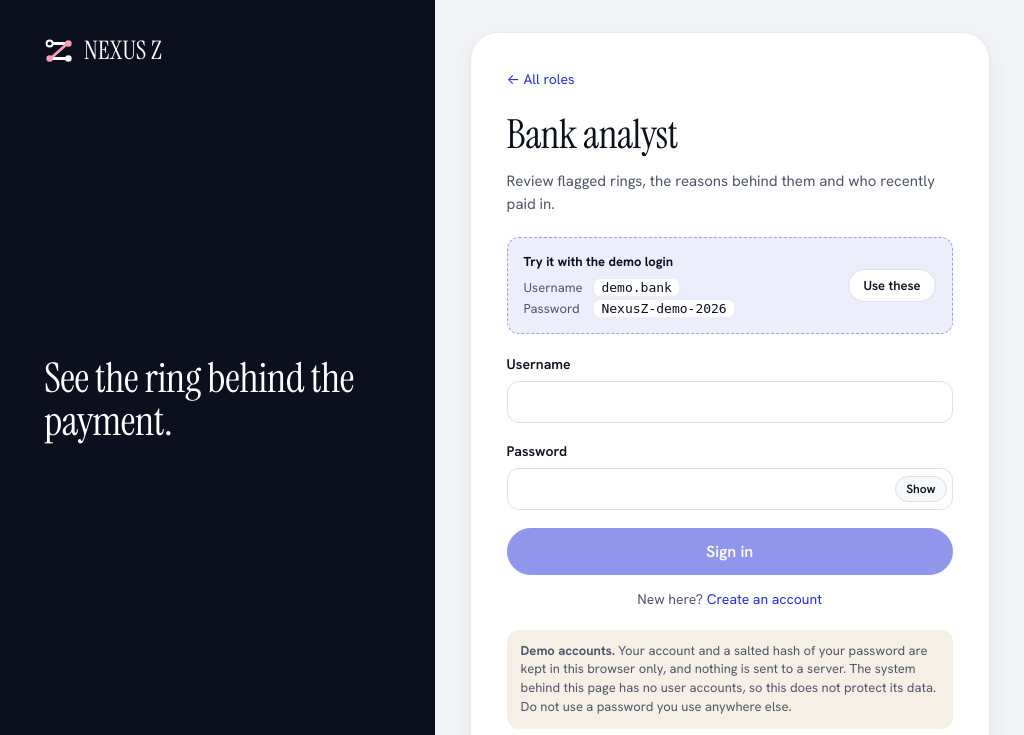
Test: landing and sign-in › a wrong password is refused, says so, and does not sign in
Type "asha" into the field labelled "Username" at point(730, 402), box [507,380,953,422]
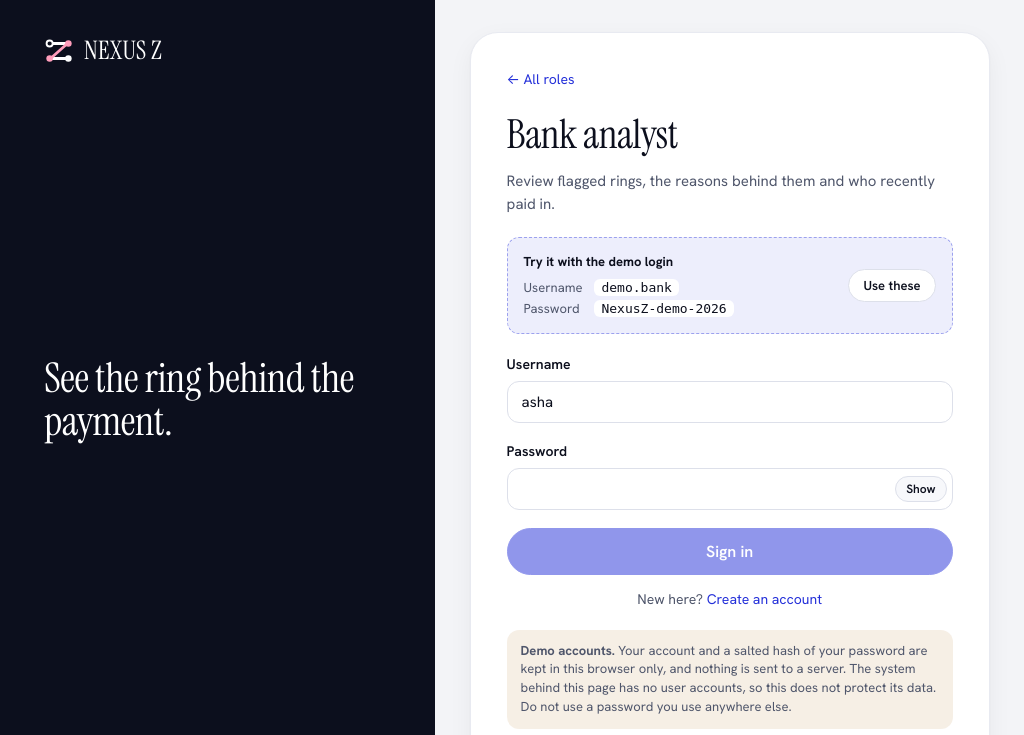
Type "wrong password" into the password field labelled "Password" at point(730, 488), box [507,468,953,510]
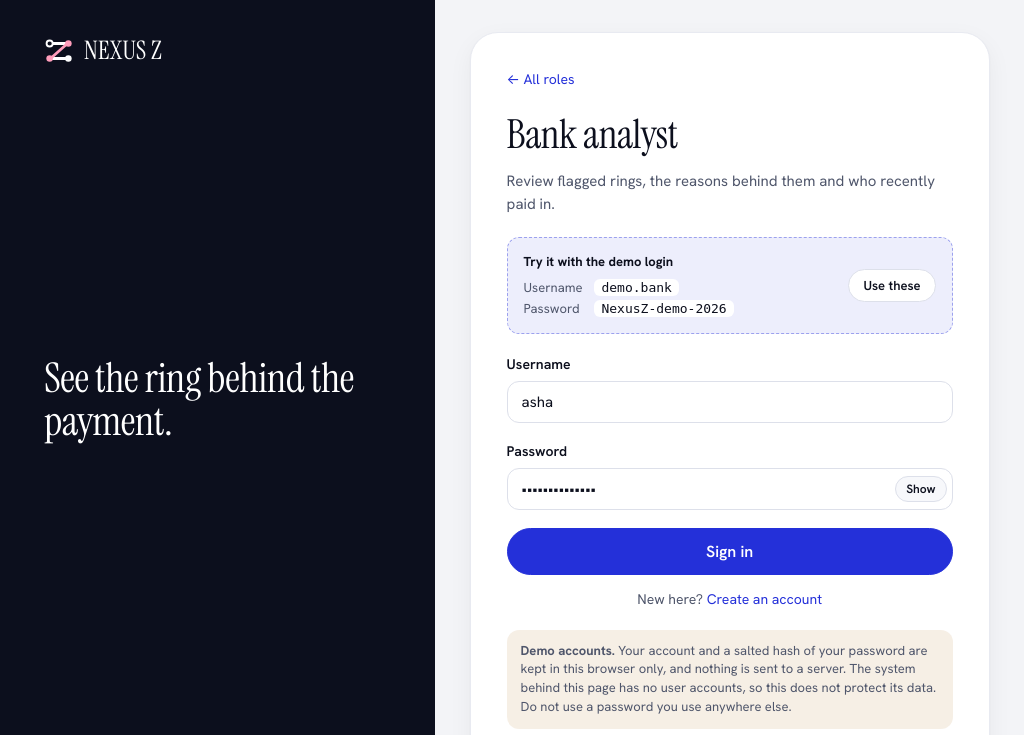
Click the button "Sign in" at point(730, 551), box [507,528,953,574]
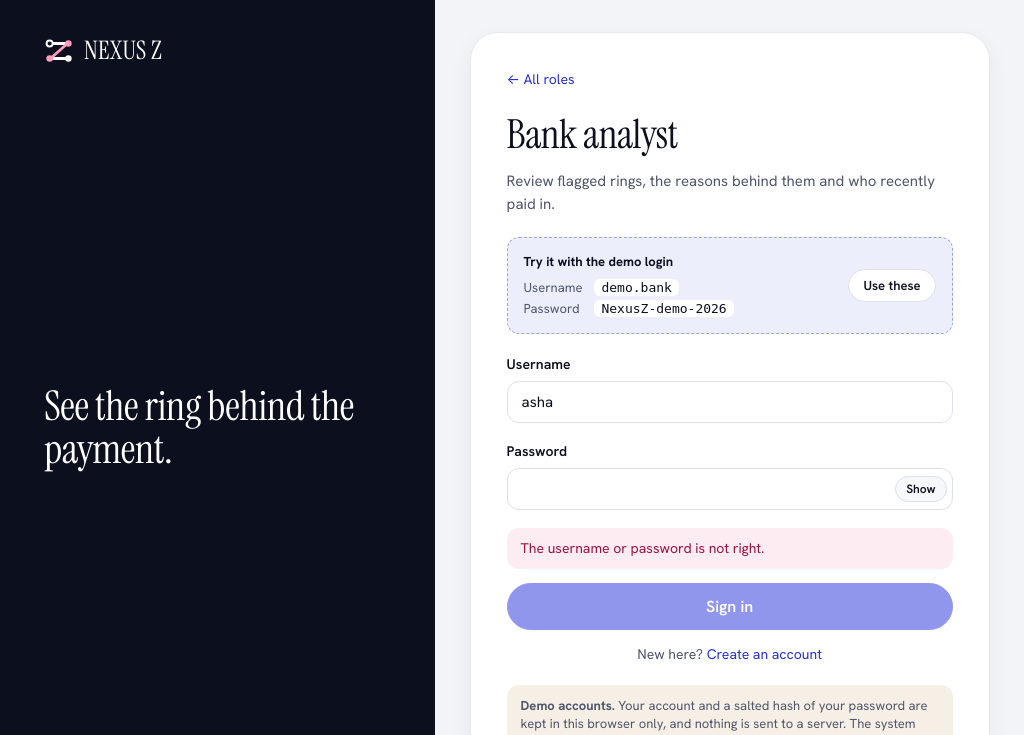
expect the message shows "not right": met, box [521,538,764,556]
